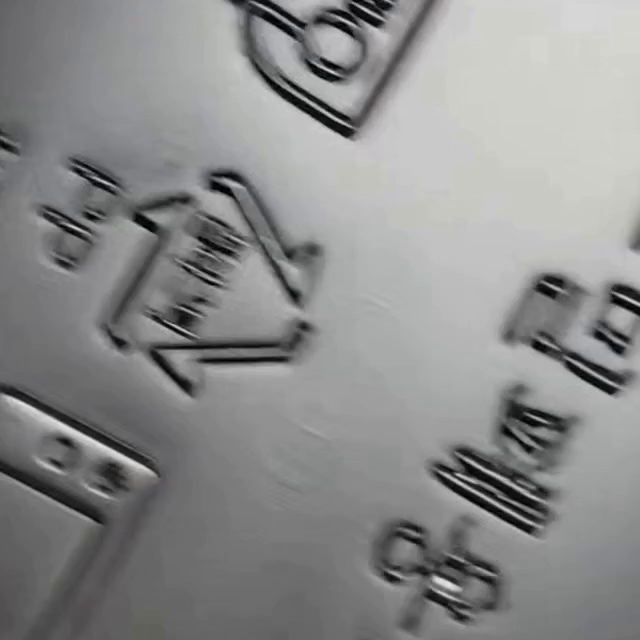Plastic: (102, 170, 323, 399)
